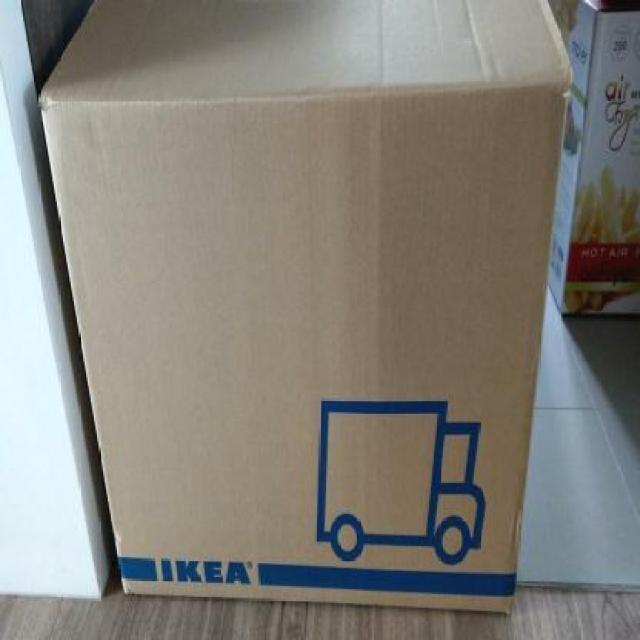-: (43, 0, 573, 616)
